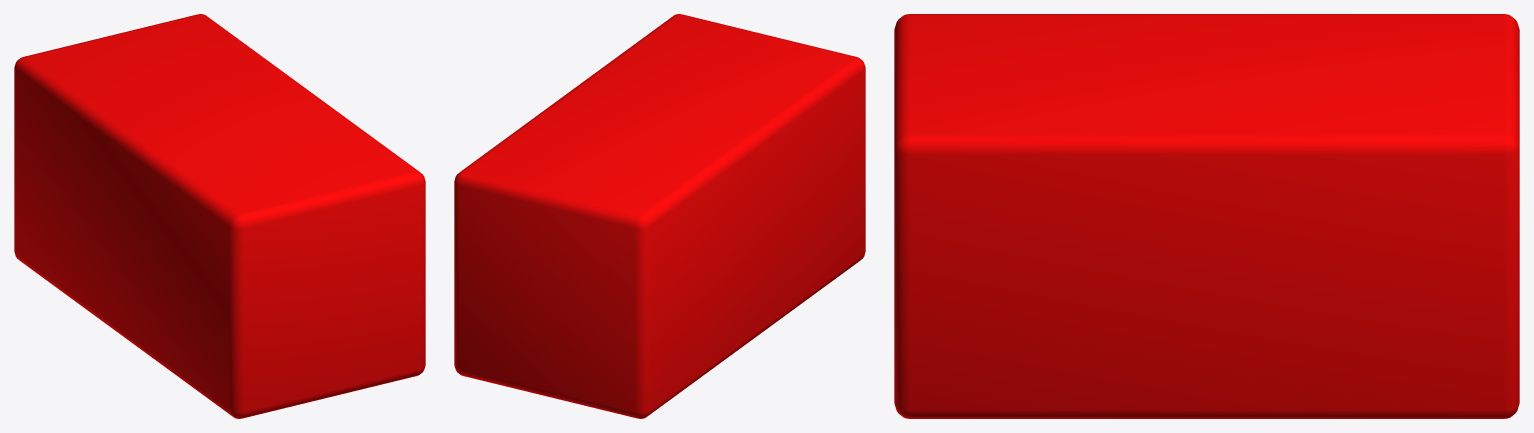
The model's file is Cuis_Red.fbx.
The picture shows the model from 3 angles, left to right: view 1: azimuth 30°, elevation 25°; view 2: azimuth 150°, elevation 25°; view 3: azimuth 270°, elevation 25°; orthographic projection. The views are drawn at different scales.
Visible parts, largest first — view 1: Red; view 2: Red; view 3: Red.
Part boxes in pixels (x1,y1,x2,y2): Red: (14,14,425,418); Red: (454,14,865,418); Red: (894,14,1519,418).
Size of the model in its own units: 1 by 1 by 2.
